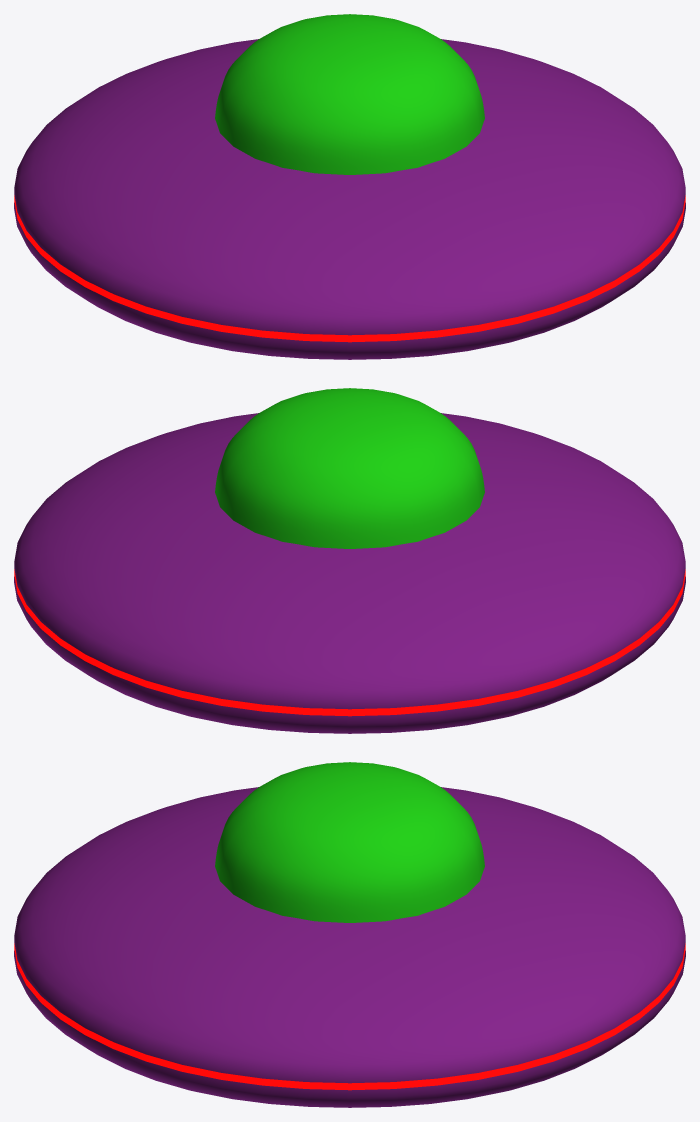
The model's file is basic alien shooting ship.dae.
The picture shows the model from 3 angles, top to bottom: view 1: azimuth 30°, elevation 25°; view 2: azimuth 150°, elevation 25°; view 3: azimuth 270°, elevation 25°; orthographic projection.
Visible parts, largest first — view 1: Body, Dome, laser_bank; view 2: Body, Dome, laser_bank; view 3: Body, Dome, laser_bank.
Part boxes in pixels (box(x1,y1,x2,y2)): Body: box(14, 39, 685, 359); Dome: box(215, 14, 484, 174); laser_bank: box(14, 195, 685, 342); Body: box(14, 413, 685, 733); Dome: box(215, 388, 484, 548); laser_bank: box(14, 569, 685, 716); Body: box(14, 787, 685, 1107); Dome: box(215, 762, 484, 922); laser_bank: box(14, 943, 685, 1090).
Bounding box in the file's own units: 2.86 × 1.06 × 2.88.
